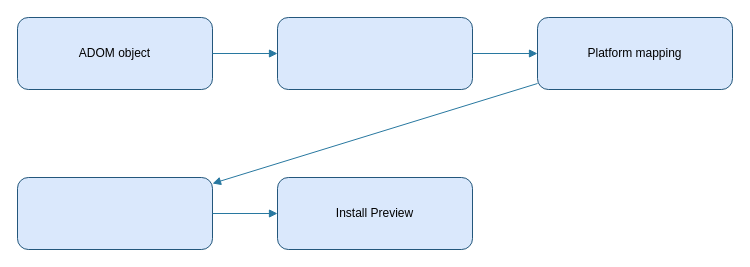
The diagram is 750 pixels wide and 267 high, and some of its shapes have lost their labels. The shapes that lost their labels are listed below. From the top down, each one's centre as x and y in pixels, then its label:
the point at 374,53: Device mapping
the point at 114,213: Default mapping
